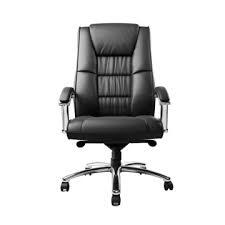chair: (57, 23, 174, 207)
